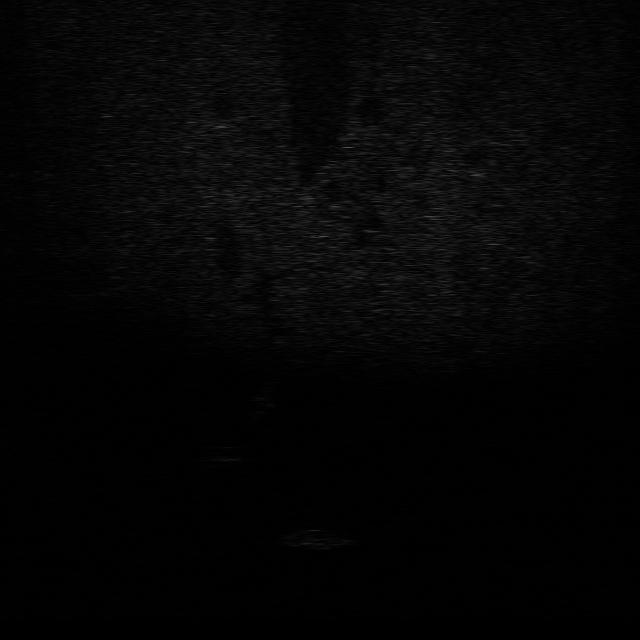ball: (206, 441, 248, 466)
circle cage: (274, 523, 358, 552)
human body: (244, 377, 280, 428)
